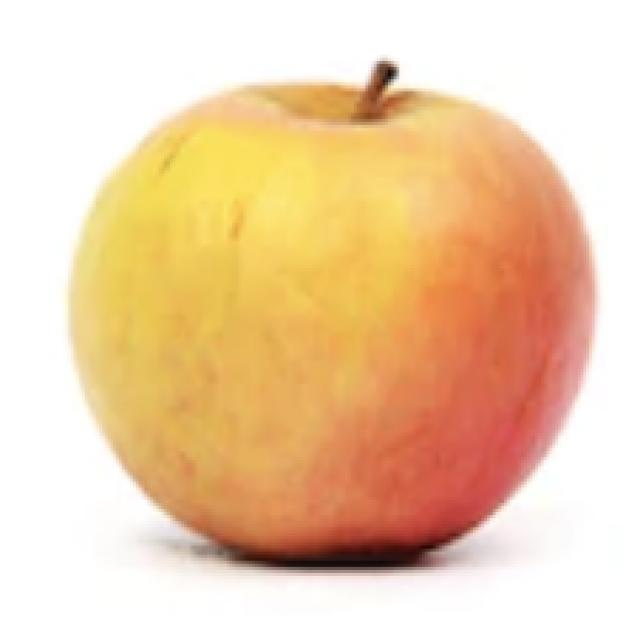Fresh Apple: (95, 85, 582, 557)
